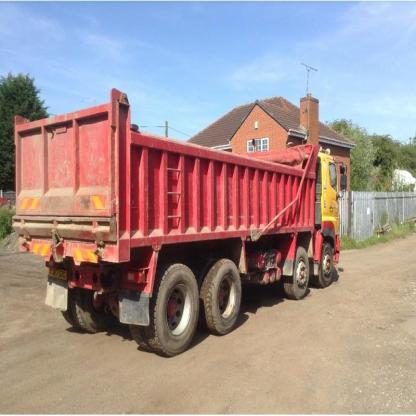dump_truck: (5, 76, 351, 355)
